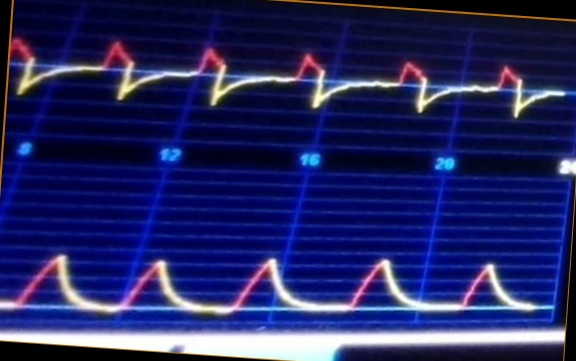Accumulation Flow: (13, 20, 561, 137)
Volume: (2, 226, 546, 324)
